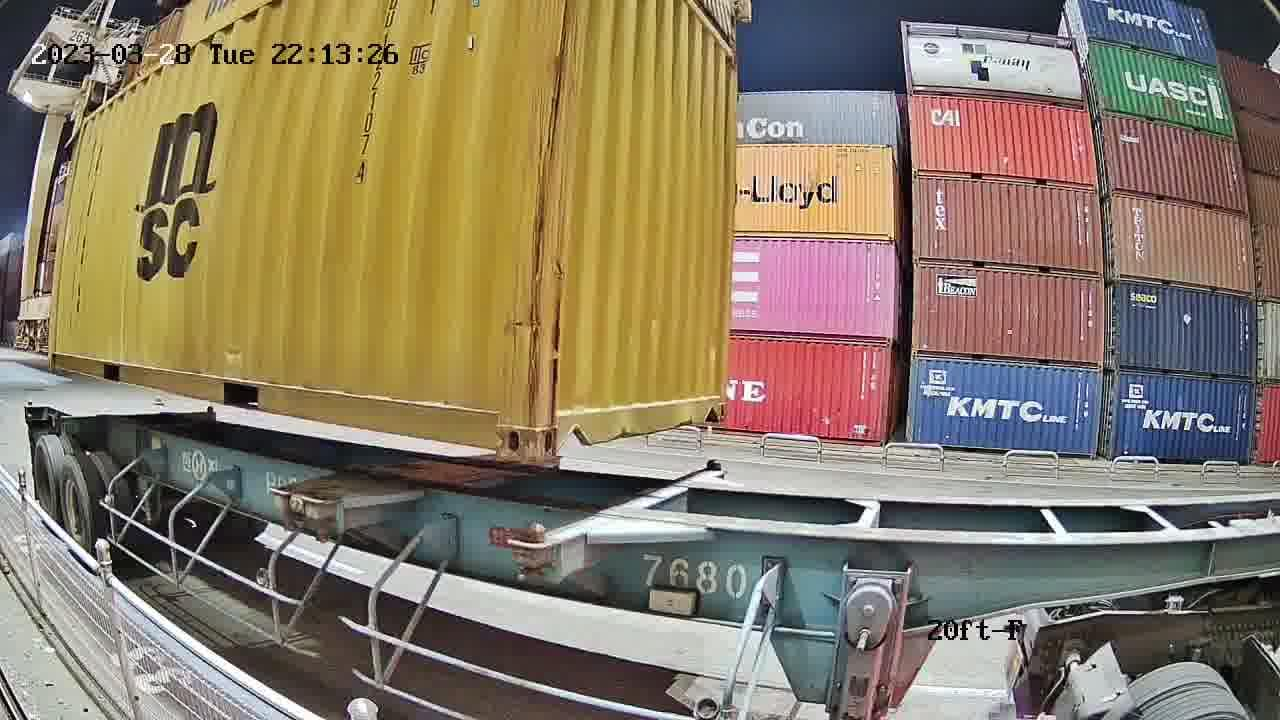Chassis: (508, 467, 725, 580)
Cone: (506, 519, 550, 584), (701, 458, 727, 474)
Hole_L: (531, 397, 589, 465)
Hole_R: (466, 394, 534, 464), (700, 388, 727, 424)
Tire: (58, 456, 94, 565), (33, 440, 60, 527)
